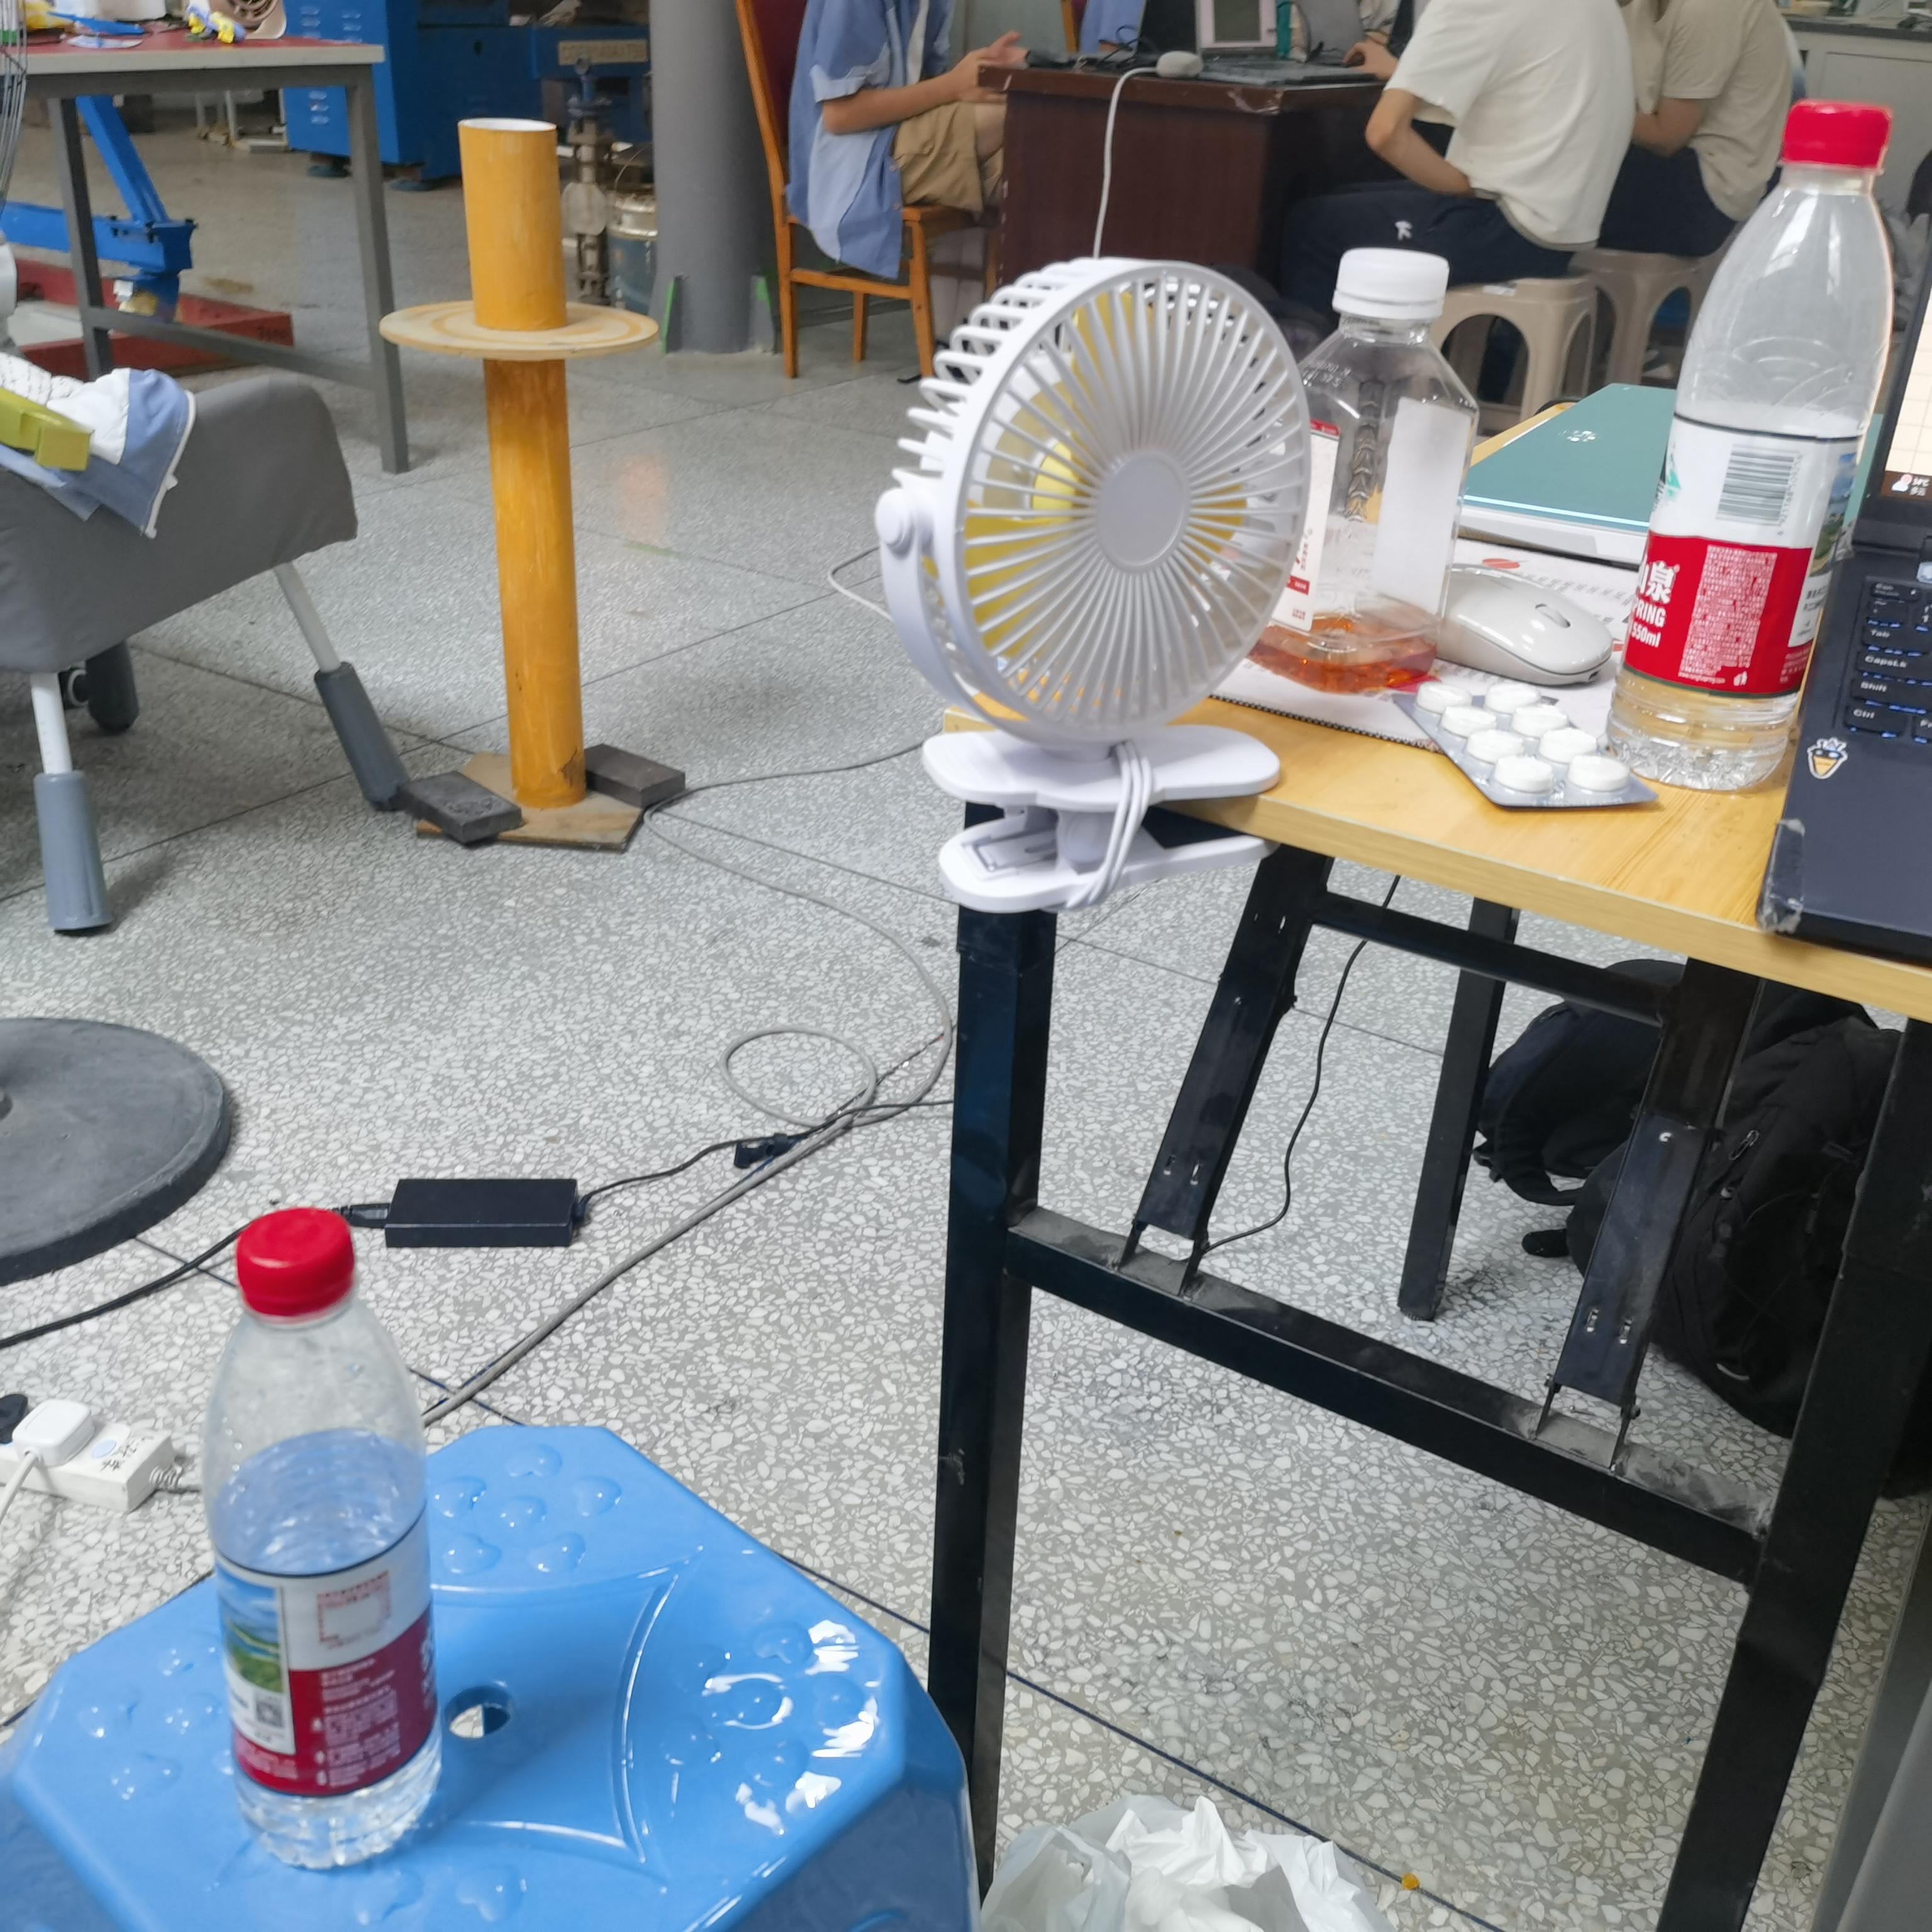bottle: (195, 1192, 465, 1890)
fan: (869, 234, 1288, 931)
